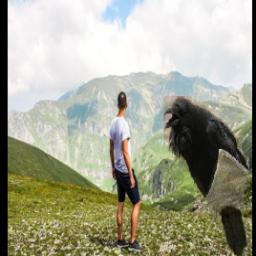Crow: (163, 96, 249, 256)
